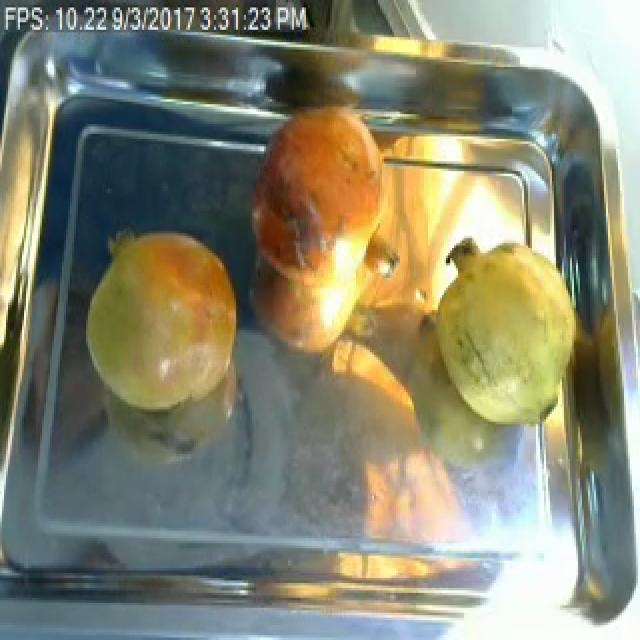fruit: (414, 223, 592, 444), (76, 216, 254, 427), (238, 94, 402, 310)
